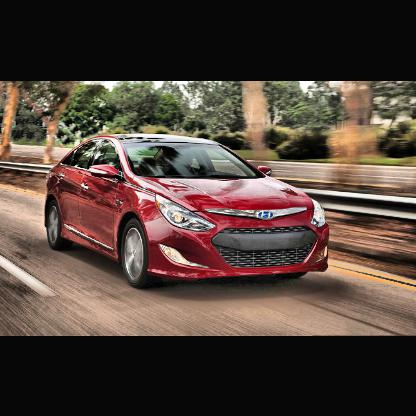Hyundai Sonata Hybrid Sedan 2012: (45, 132, 332, 288)
